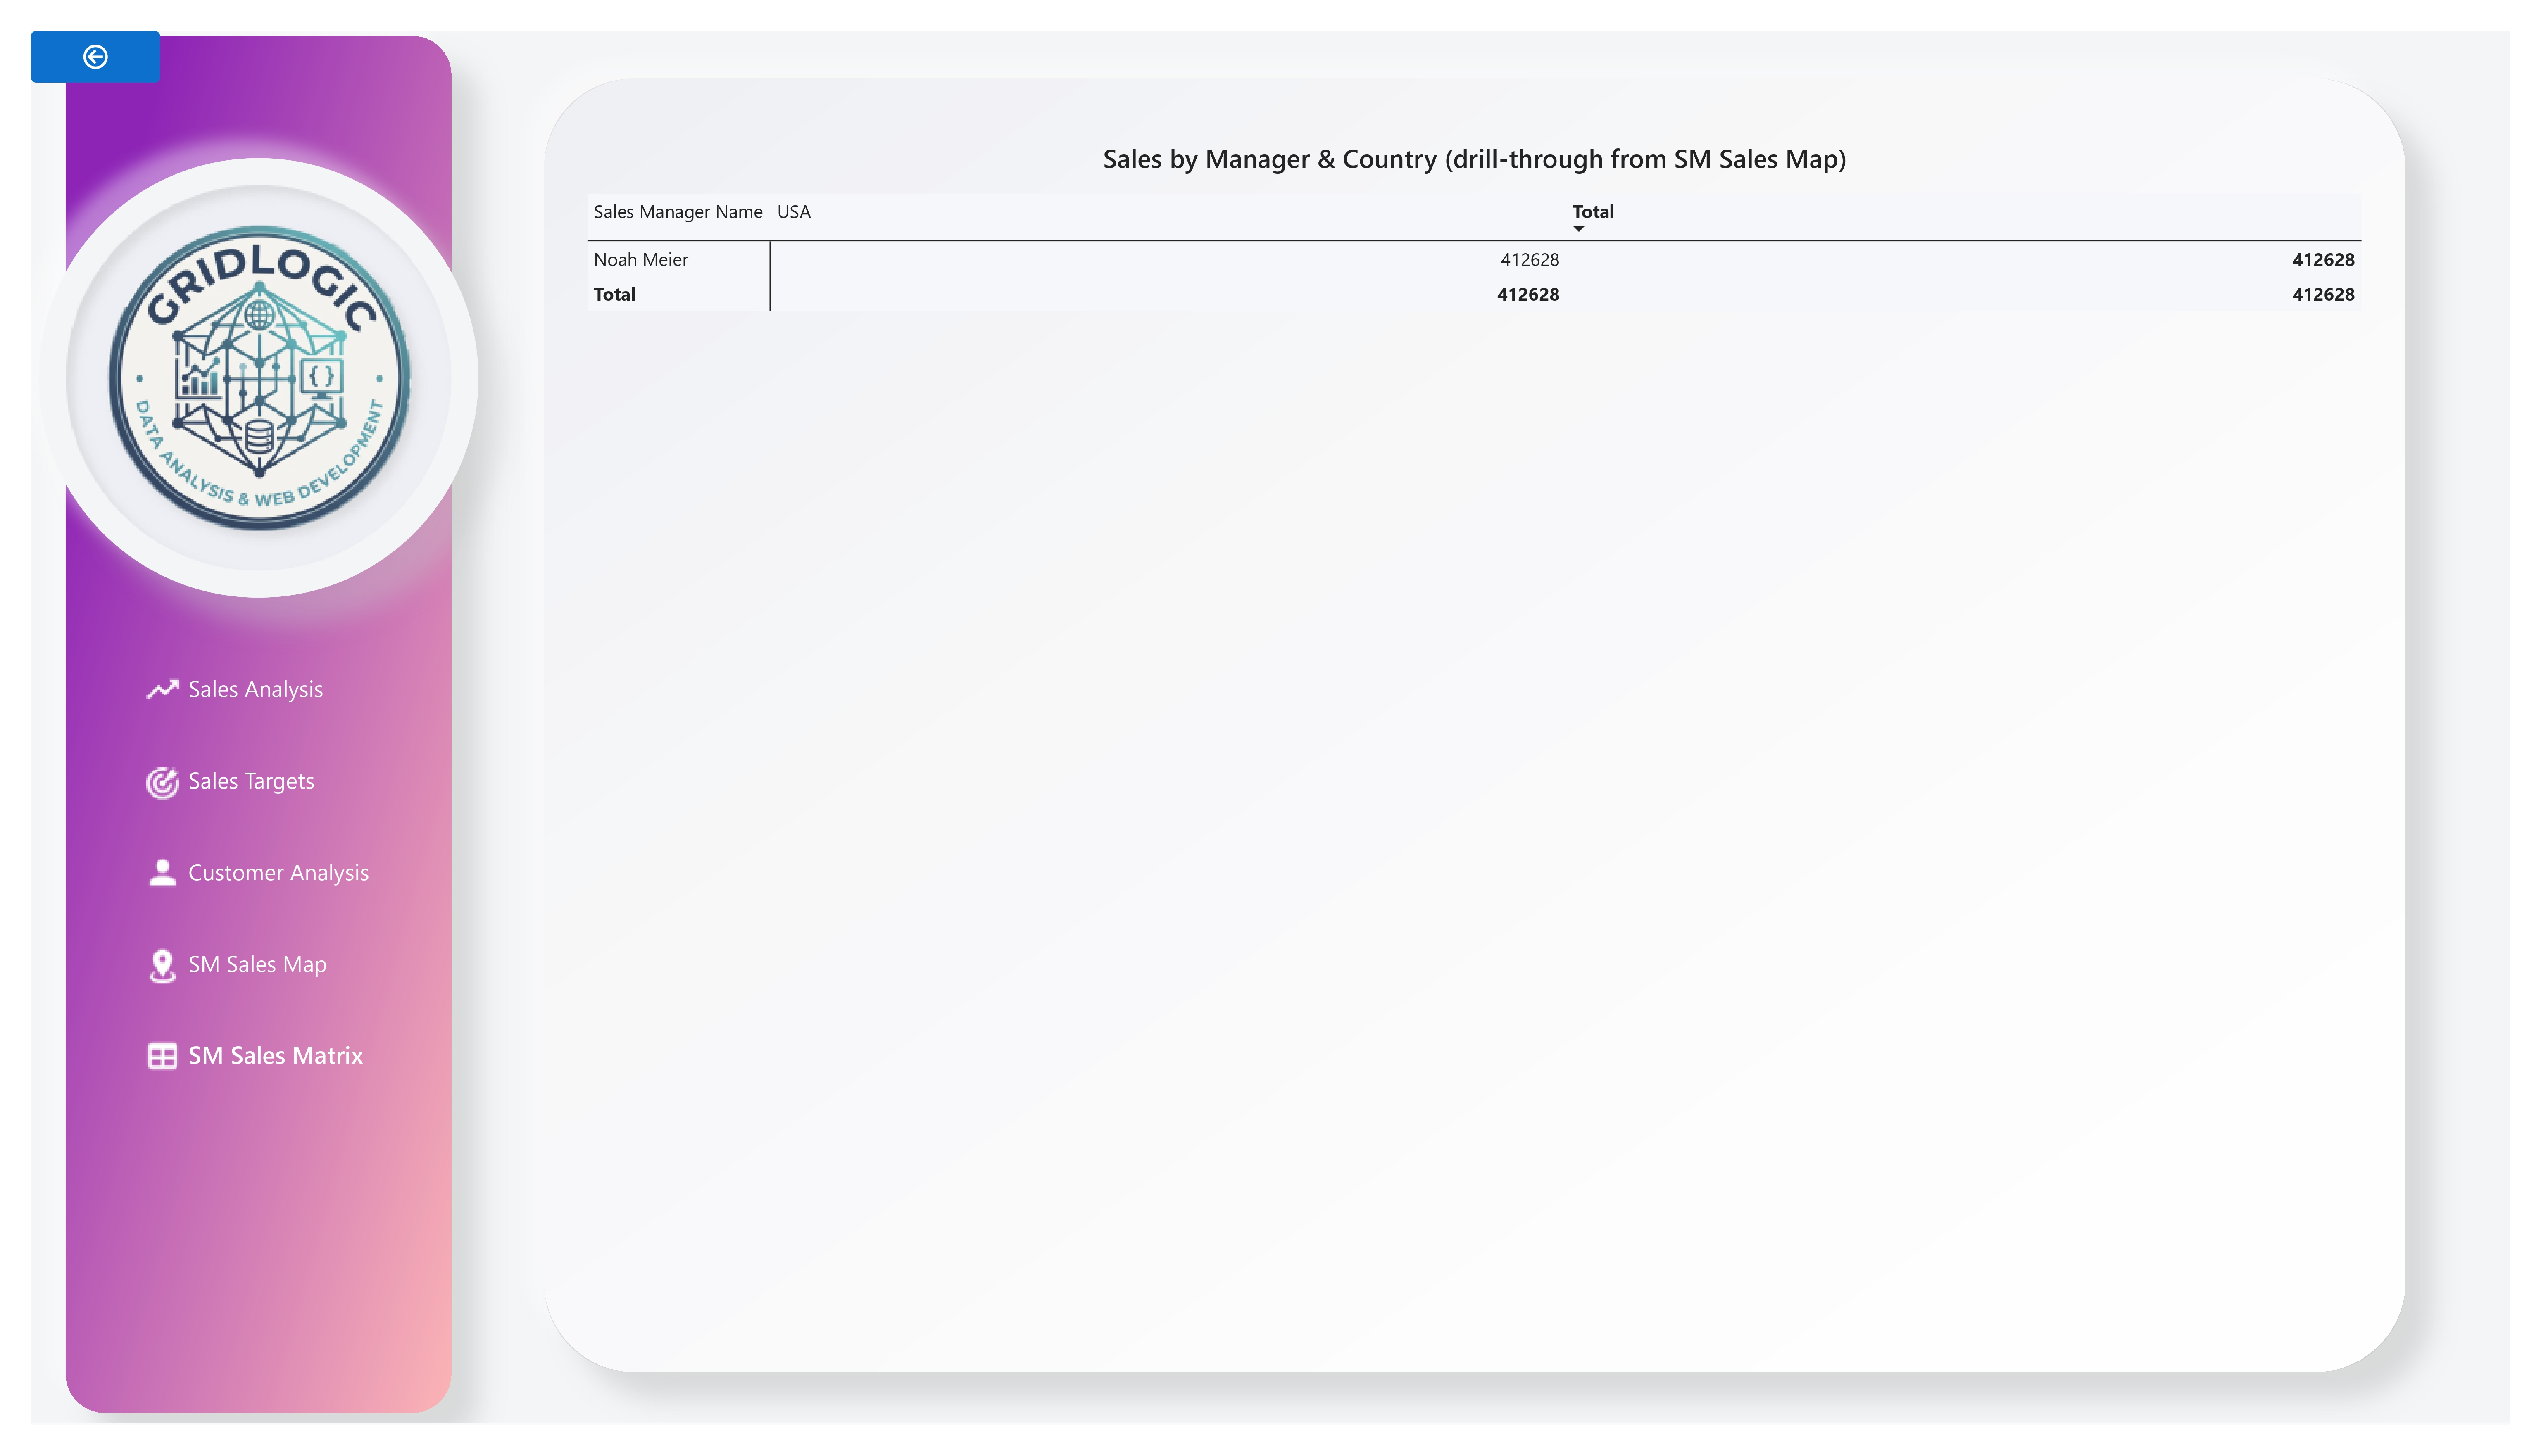

The page's visual inventory and layout, read from the dashboard file:
{"tool":"powerbi","page":{"name":"SM Sales Matrix","canvas":[1920,1080],"ordinal":4},"visuals":[{"type":"pivotTable","title":"Sales by Manager & Country (drill-through from SM Sales Map)","fields":{"Rows":["Sales Manager Target Table.Sales Manager Name"],"Columns":["Customers.Customer Country"],"Values":["Sum(Orders.Order Value)"]},"box":[415,70,1406.7,938.3],"z":0},{"type":"actionButton","box":[0,0,100,40],"z":1000},{"type":"actionButton","title":"TableIconButton","box":[82.9,775.3,37.6,37.6],"z":1500,"group":"g1"},{"type":"group","id":"g1","title":"NavMenu","box":[82.9,473.8,209.6,355],"z":2000},{"type":"actionButton","title":"MapIconButton","box":[82.9,704.8,37.6,37.6],"z":4000,"group":"g1"},{"type":"actionButton","title":"CustomerIconButton","box":[82.9,632.4,37.6,37.6],"z":4312,"group":"g1"},{"type":"actionButton","title":"TargetIconButton","box":[82.9,563.4,37.6,37.6],"z":4625,"group":"g1"},{"type":"actionButton","title":"SalesIconButton","box":[82.9,490.5,37.6,37.6],"z":5250,"group":"g1"},{"type":"pageNavigator","title":"PageNavigator","box":[110,473.8,182.5,355],"z":5500,"group":"g1"}]}

Visuals, with their boxes on the page's 1920x1080 design canvas (x1, y1, x2, y2). These are canvas units, not pixel positions in the 2541x1456 screenshot, which may show the page scaled, cropped or inside an application window:
"Sales by Manager & Country (drill-through from SM Sales Map)" pivotTable: [415, 70, 1822, 1008]
actionButton: [0, 0, 100, 40]
"TableIconButton" actionButton: [83, 775, 120, 813]
"NavMenu" group: [83, 474, 292, 829]
"MapIconButton" actionButton: [83, 705, 120, 742]
"CustomerIconButton" actionButton: [83, 632, 120, 670]
"TargetIconButton" actionButton: [83, 563, 120, 601]
"SalesIconButton" actionButton: [83, 490, 120, 528]
"PageNavigator" pageNavigator: [110, 474, 292, 829]
